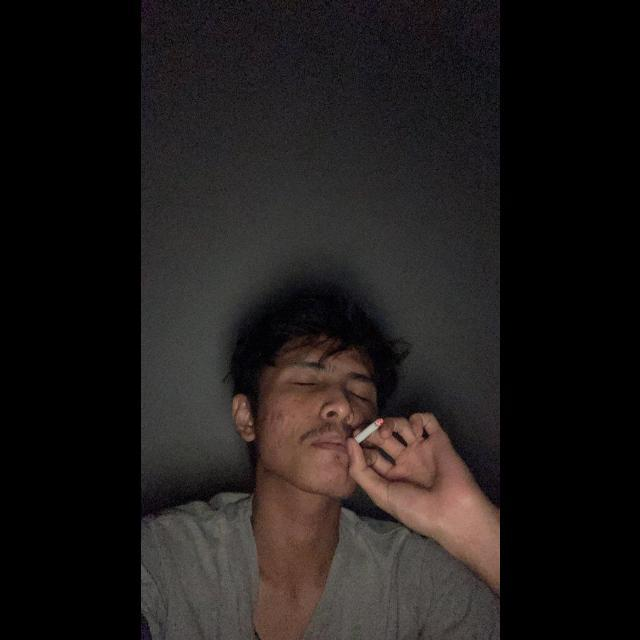rokok: (353, 409, 383, 448)
